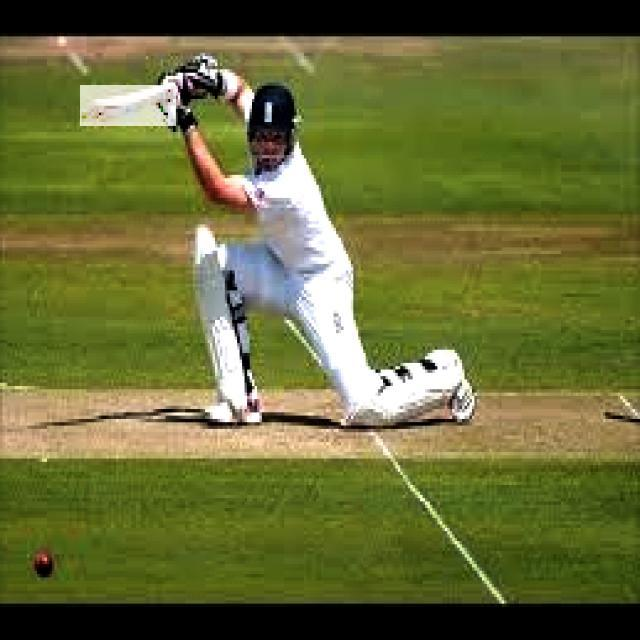bat: (79, 83, 175, 129)
toe: (88, 100, 104, 123)
